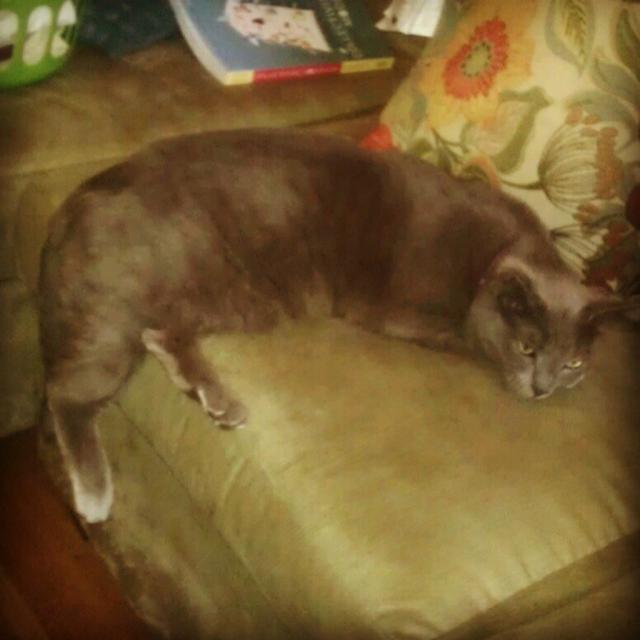Cat: (33, 127, 633, 523)
